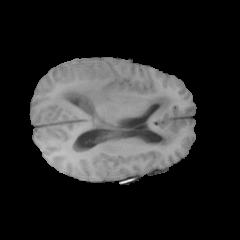glioma: (54, 81, 178, 148)
